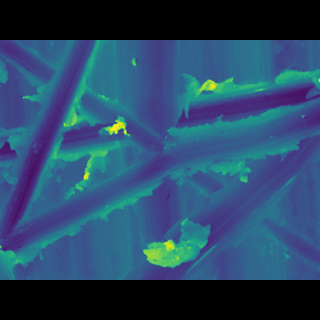Loch: (0, 121, 318, 232), (112, 143, 319, 249), (0, 70, 101, 219), (172, 95, 319, 135)
